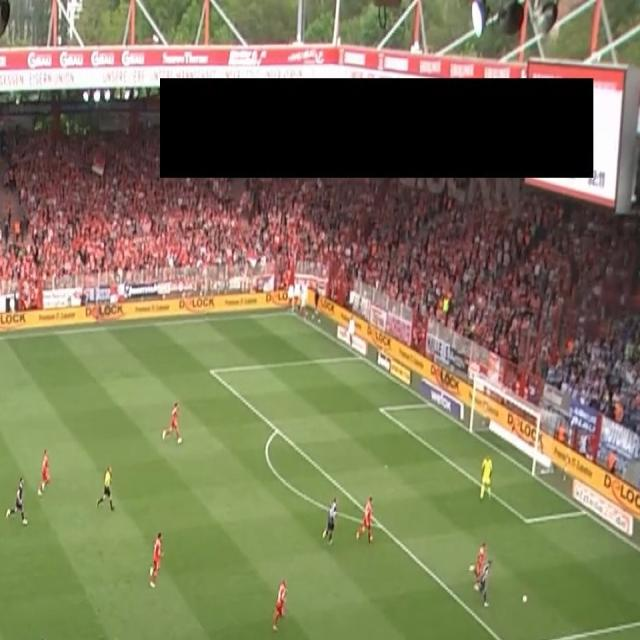ball: (522, 593, 528, 605)
